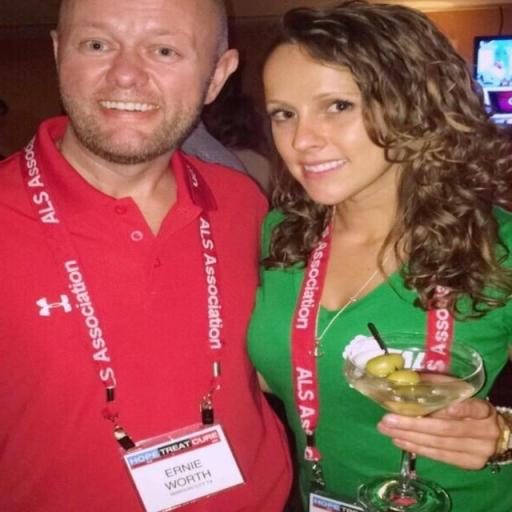Under Armour: (32, 291, 76, 320)
